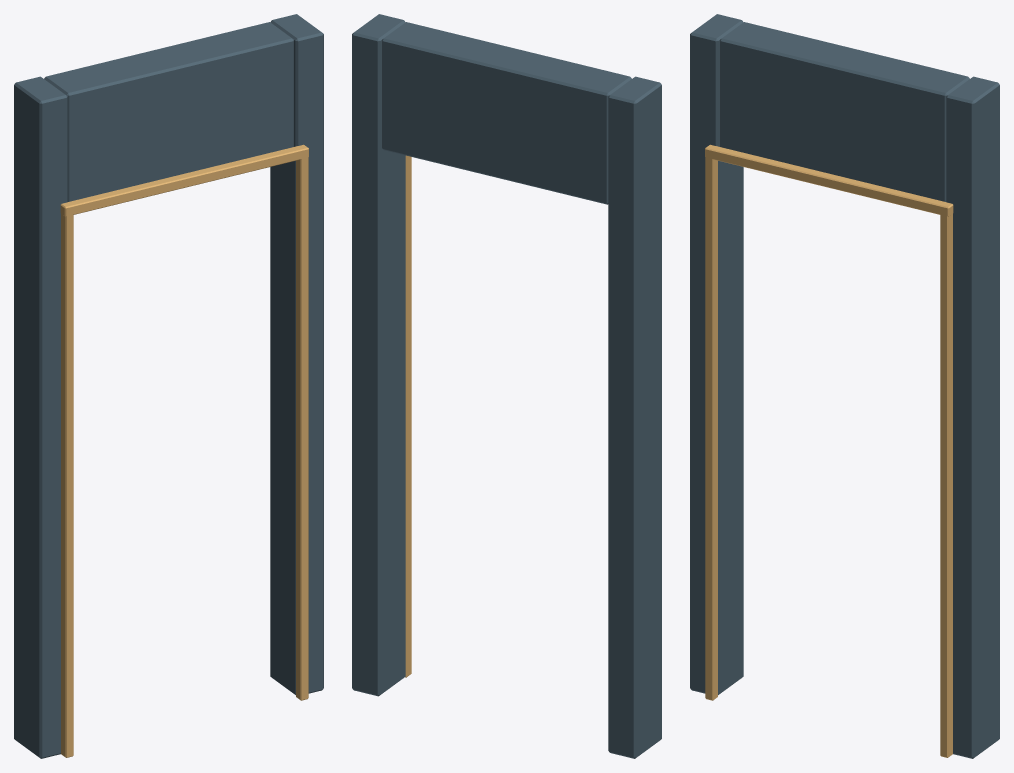
The model's file is door_portal.glb.
3 views of the same model, side by side, from view 1: azimuth 30°, elevation 25°; view 2: azimuth 150°, elevation 25°; view 3: azimuth 330°, elevation 25° (orthographic).
Visible parts, largest first — view 1: door_portal__wall, door_portal__oak_light; view 2: door_portal__wall, door_portal__oak_light; view 3: door_portal__wall, door_portal__oak_light.
Boxes of the visible parts, x1,y1,x2,y2 form: door_portal__wall: (14,14,323,758); door_portal__oak_light: (60,144,308,757); door_portal__wall: (352,14,661,758); door_portal__oak_light: (405,155,411,677); door_portal__wall: (690,14,999,758); door_portal__oak_light: (705,144,953,757).
Bounding box in the file's own units: 1.2 × 2.65 × 0.235.
